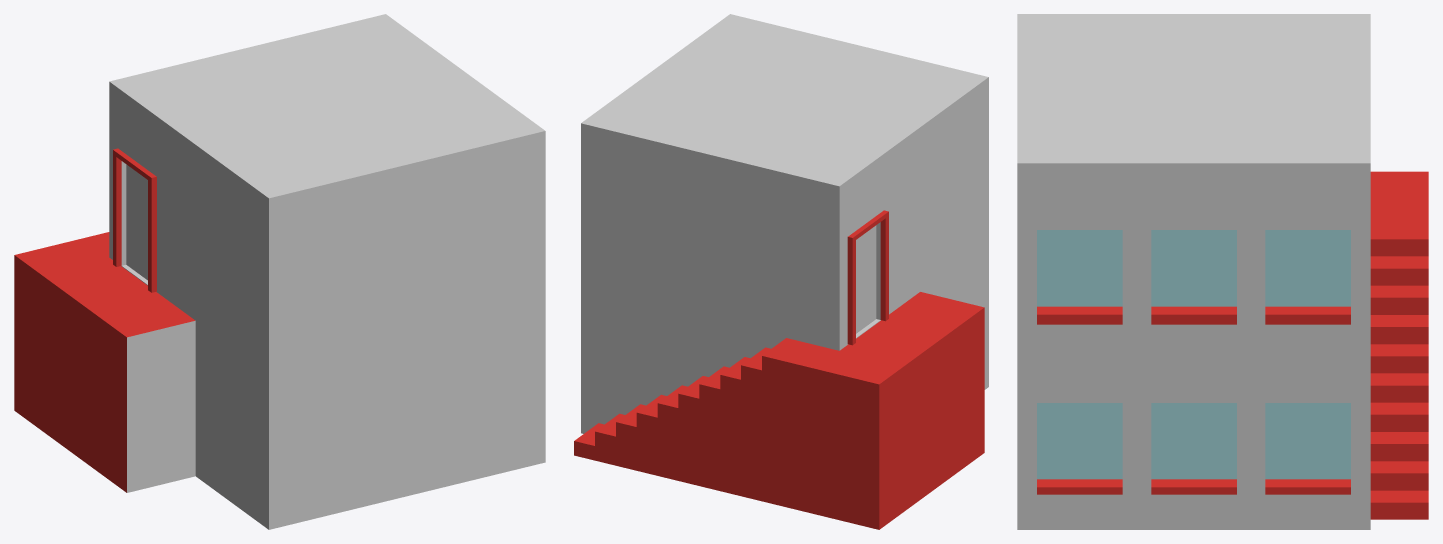
File: quarter_48_b.glb
The picture shows the model from 3 angles, left to right: view 1: azimuth 30°, elevation 25°; view 2: azimuth 150°, elevation 25°; view 3: azimuth 270°, elevation 25°; orthographic projection. The views are drawn at different scales.
Visible parts, largest first — view 1: Building 67_White_0, Building 67_Red_0; view 2: Building 67_White_0, Building 67_Red_0; view 3: Building 67_White_0, Building 67_Blue_0, Building 67_Red_0.
Boxes of the visible parts, <box> form: Building 67_White_0: <box>109,14,545,529</box>; Building 67_Red_0: <box>14,148,194,492</box>; Building 67_White_0: <box>581,14,988,433</box>; Building 67_Red_0: <box>574,210,984,529</box>; Building 67_White_0: <box>1017,14,1370,529</box>; Building 67_Blue_0: <box>1037,230,1350,479</box>; Building 67_Red_0: <box>1037,171,1428,519</box>.
Size of the model in its own units: 1.45 by 1.31 by 1.33.
